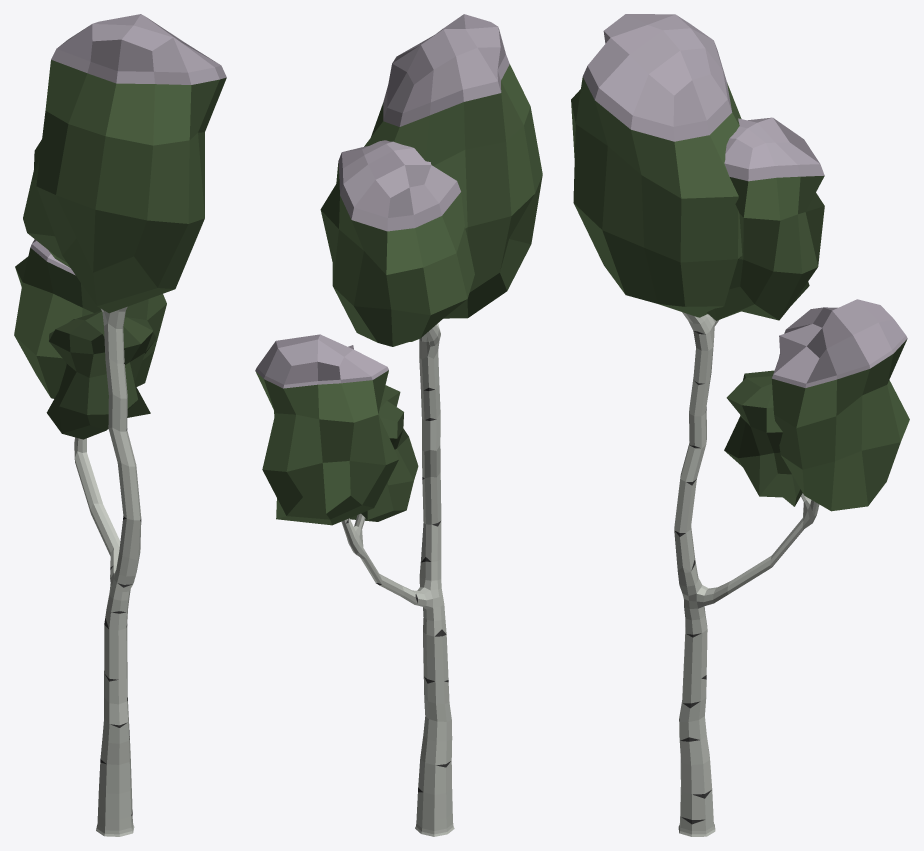
File: quaternius-nature-pack-birch-tree-snow-5.glb
3 views of the same model, side by side, from view 1: azimuth 30°, elevation 25°; view 2: azimuth 150°, elevation 25°; view 3: azimuth 270°, elevation 25° (orthographic). The views are drawn at different scales.
Parts seen in each view (by area): view 1: BirchTree_Snow_5; view 2: BirchTree_Snow_5; view 3: BirchTree_Snow_5.
Boxes of the visible parts, <box> form: BirchTree_Snow_5: <box>14,14,226,836</box>; BirchTree_Snow_5: <box>255,14,542,836</box>; BirchTree_Snow_5: <box>571,14,909,836</box>.
Bounding box in the file's own units: 1.19 × 5.06 × 1.93.
